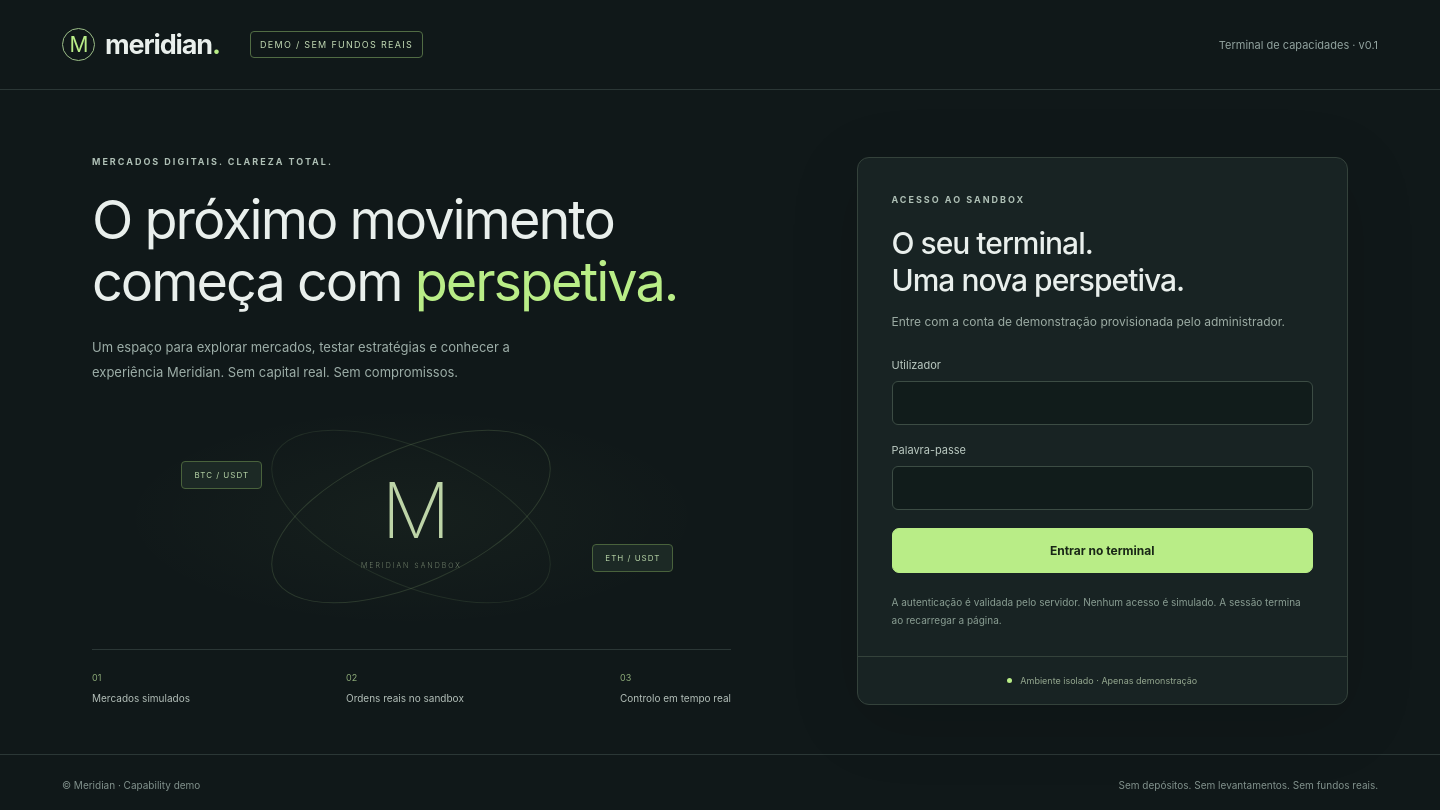
Scenario: real login failure remains signed out, with clear demo notice
This screenshot has width=1440, height=810.
Check: the text "DEMO / SEM FUNDOS REAIS" is shown, box [250,31,423,58]
Type "tester" into the field labelled "Utilizador" at [1102, 403], box [892,381,1313,425]
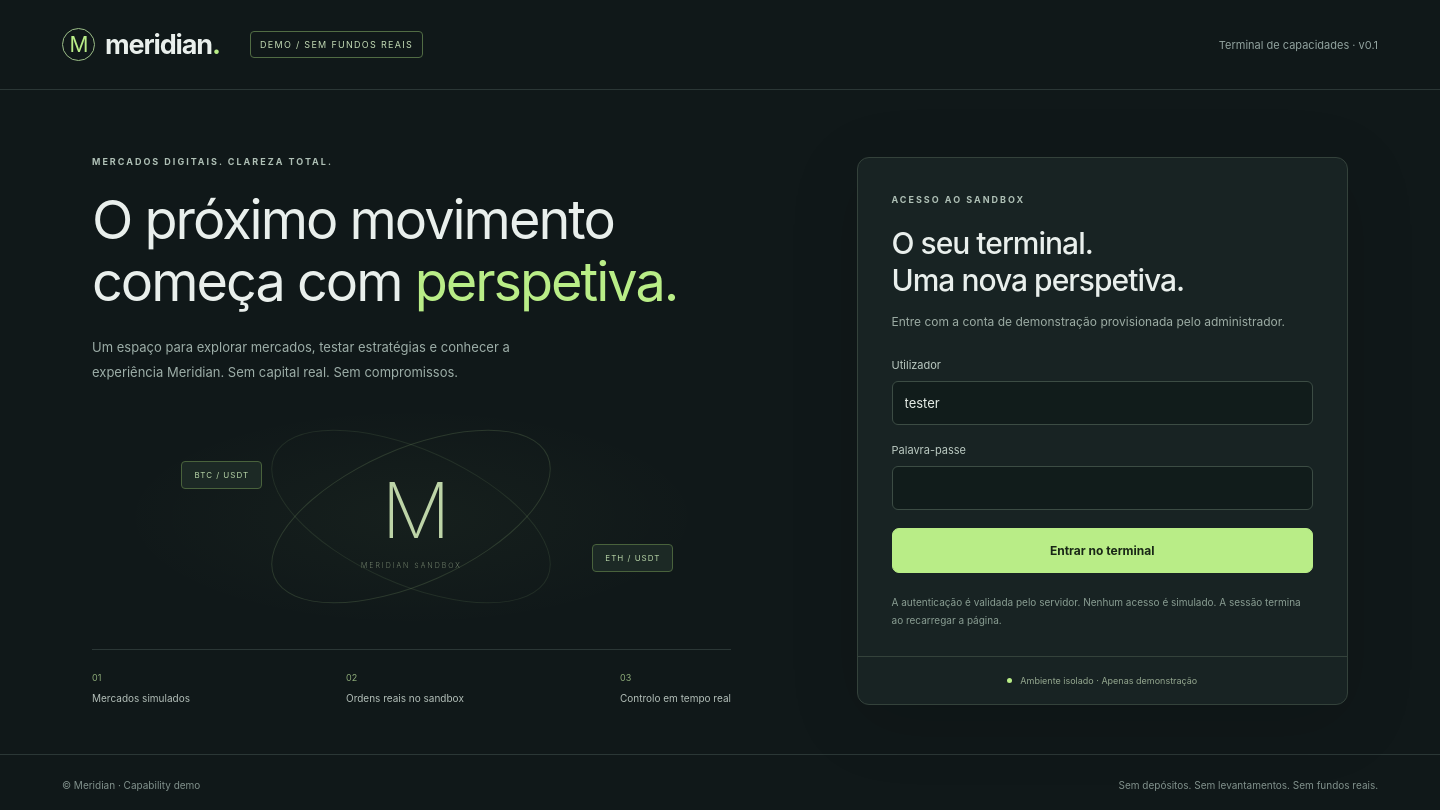
Type "wrong" into the password field labelled "Palavra-passe" at [1102, 488], box [892,466,1313,510]
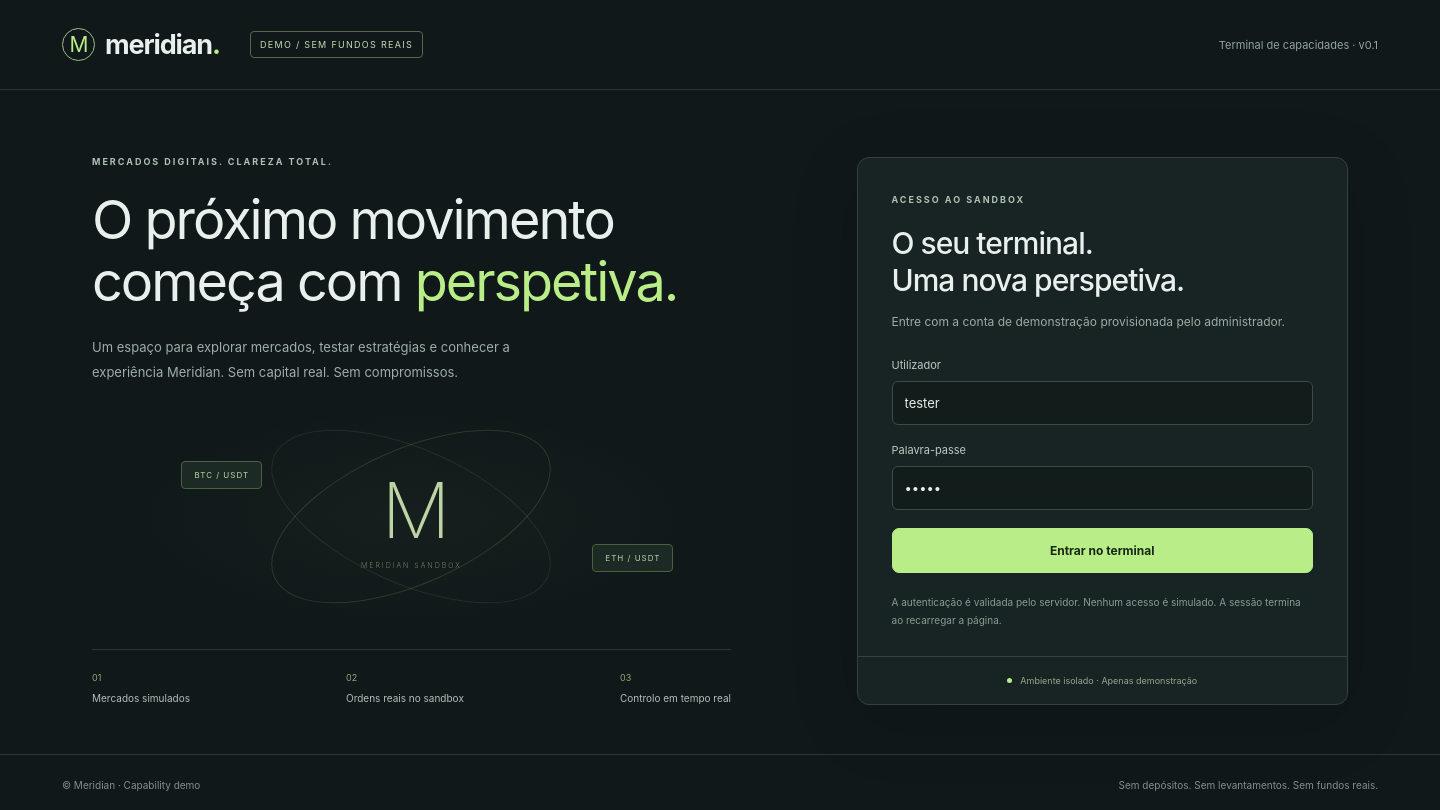
Click the button "Entrar no terminal" at [1102, 550], box [892,528,1313,573]
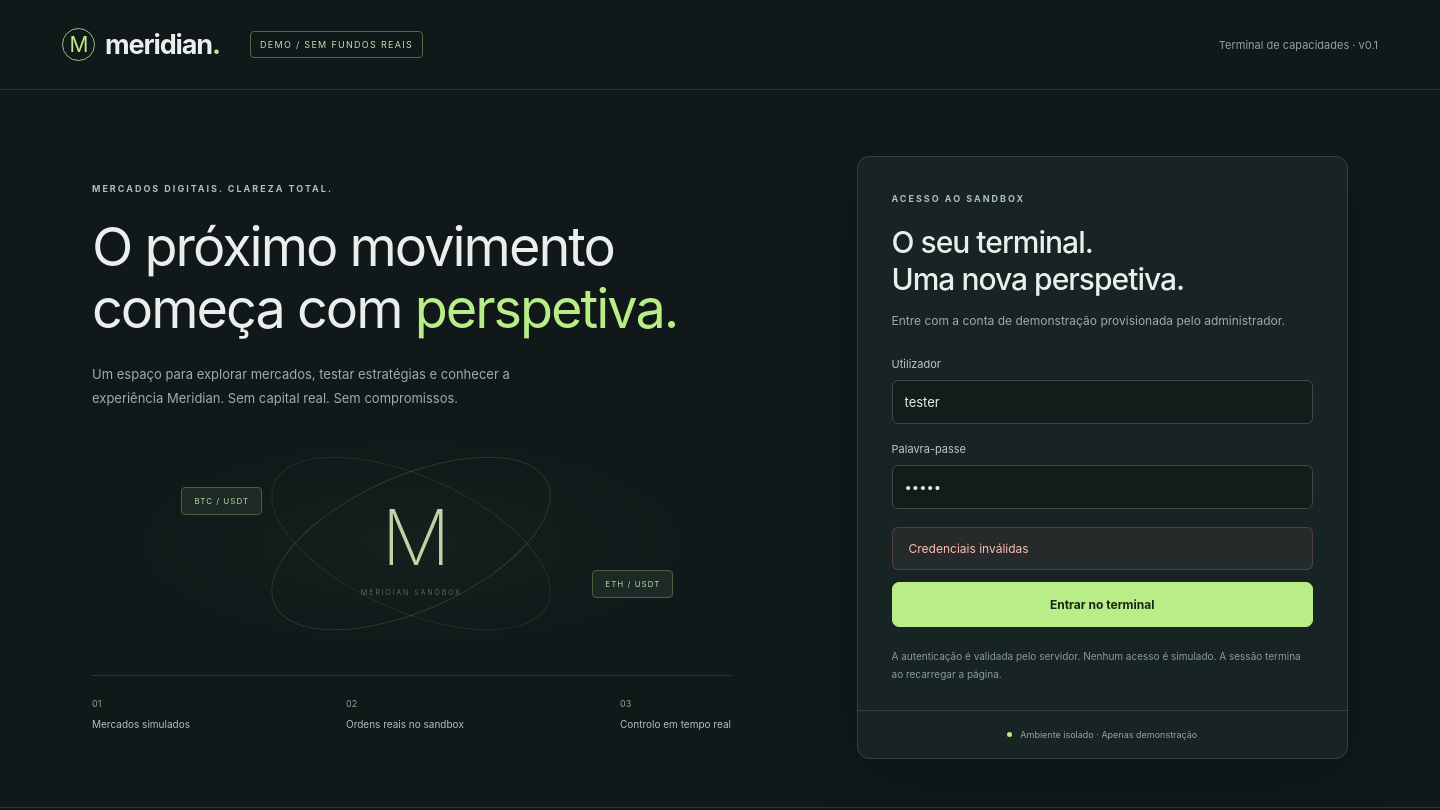
Check: the message reads "Credenciais inválidas", box [908,541,1029,556]
